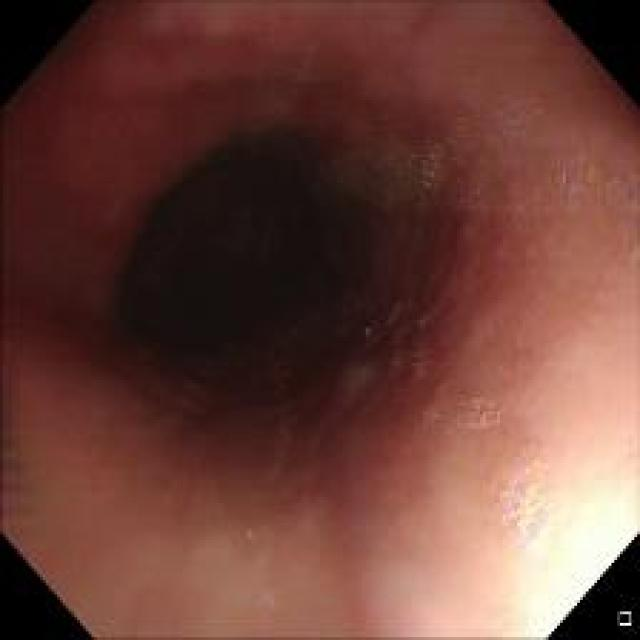bubbles: (366, 130, 469, 191), (489, 475, 556, 550), (454, 394, 509, 431)
color misalignment: (554, 166, 635, 200), (486, 168, 538, 218), (491, 481, 532, 524), (461, 399, 501, 428), (408, 348, 428, 378), (416, 165, 436, 186), (389, 345, 402, 366), (361, 325, 371, 339)
contrast: (101, 111, 465, 432)
saturation: (478, 478, 632, 629)
